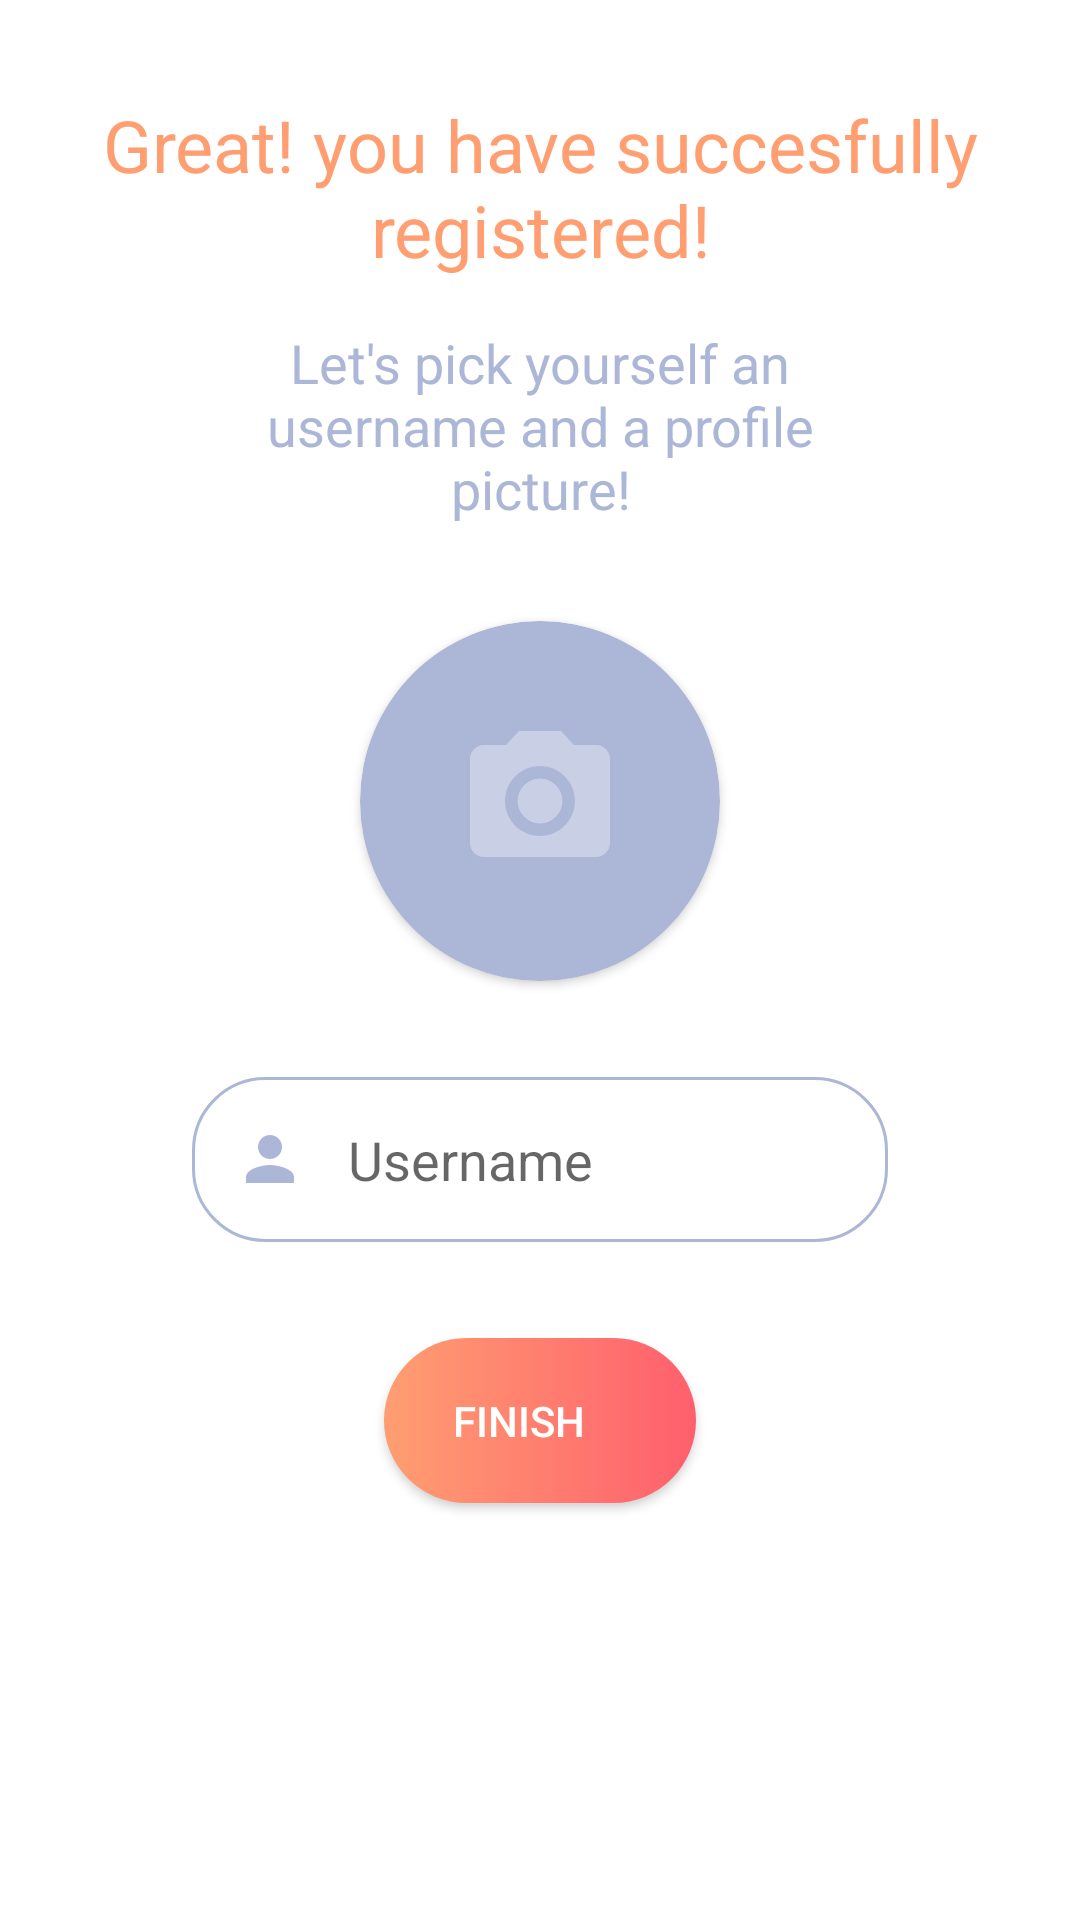

Icons on this 1080w x 1920h Android screen, each with its box as (x1, y1, x2, y2):
camera: (470, 731, 610, 857)
